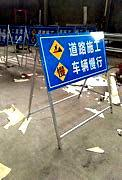sign: (39, 36, 108, 75)
